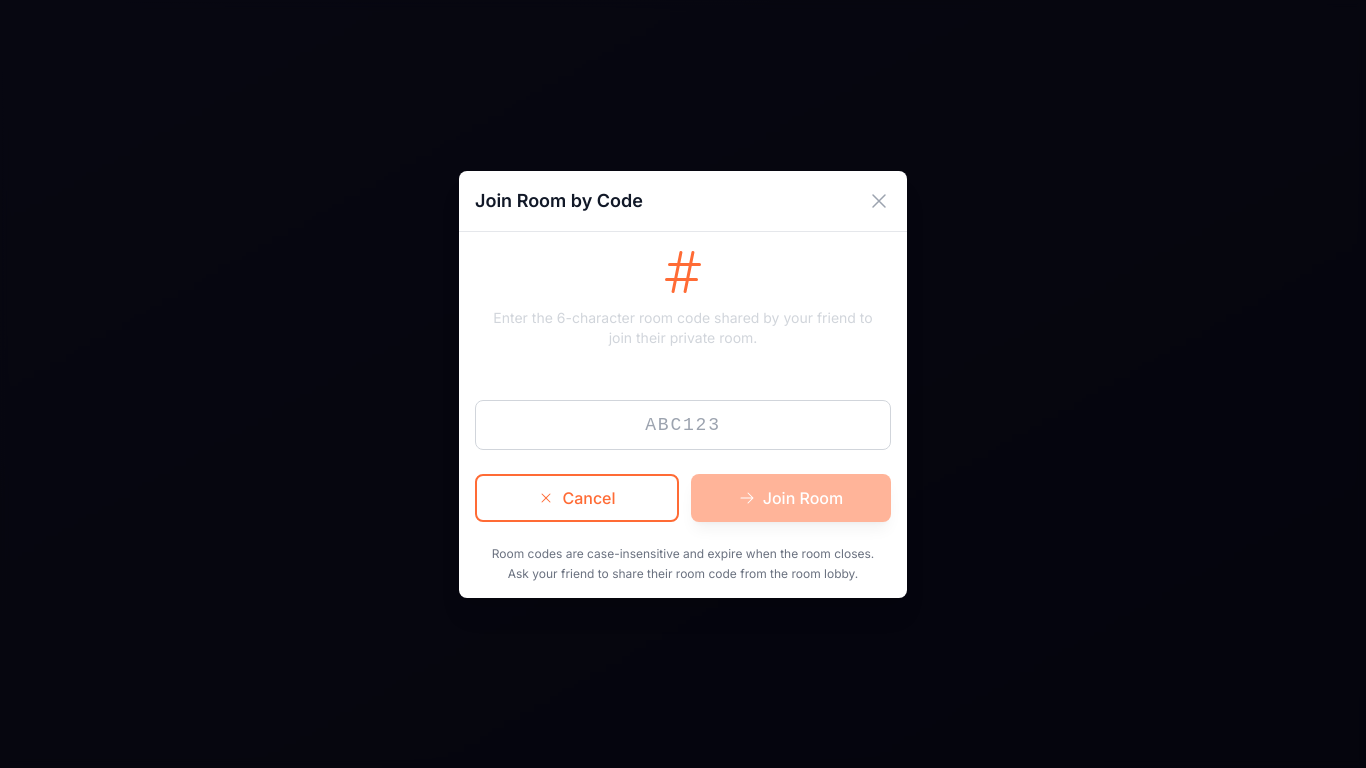
Test case: JoinByCodeModal › shows character count
The image size is (1366, 768).
Type "ABC" into the field labelled "Room Code". click: (683,424)
box: left=475, top=400, right=891, bottom=450
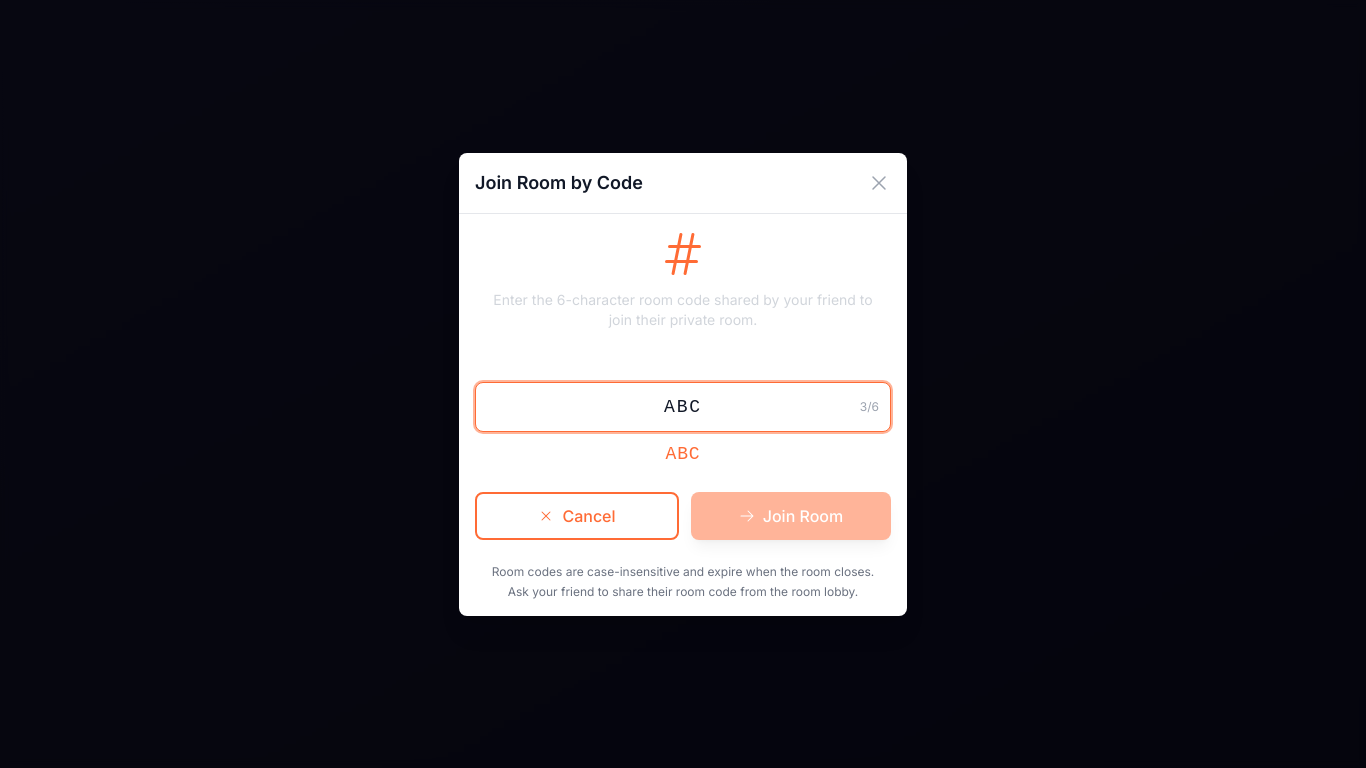
Check: the text "3/6" is shown, box left=860, top=398, right=879, bottom=414
